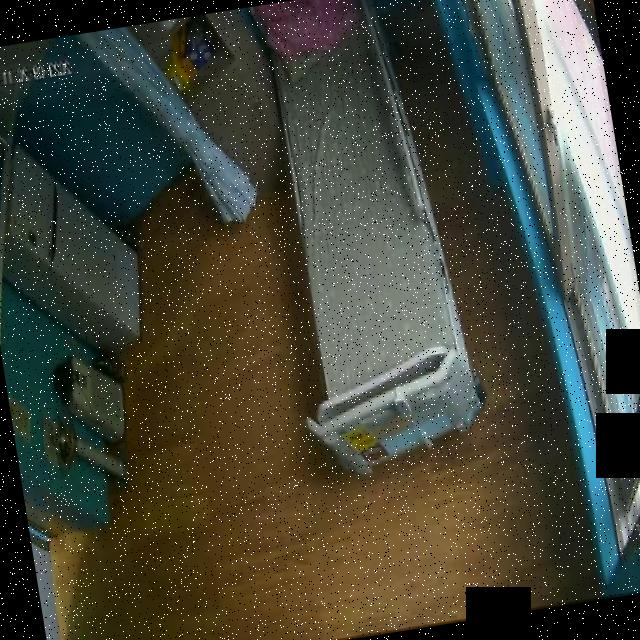bed: (254, 0, 483, 469)
